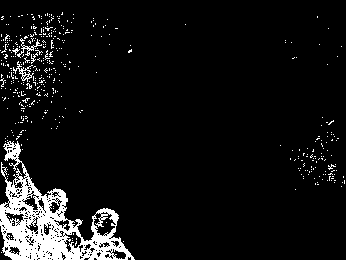person: (38, 188, 81, 260), (2, 179, 38, 259), (86, 203, 134, 260), (2, 140, 46, 196)
